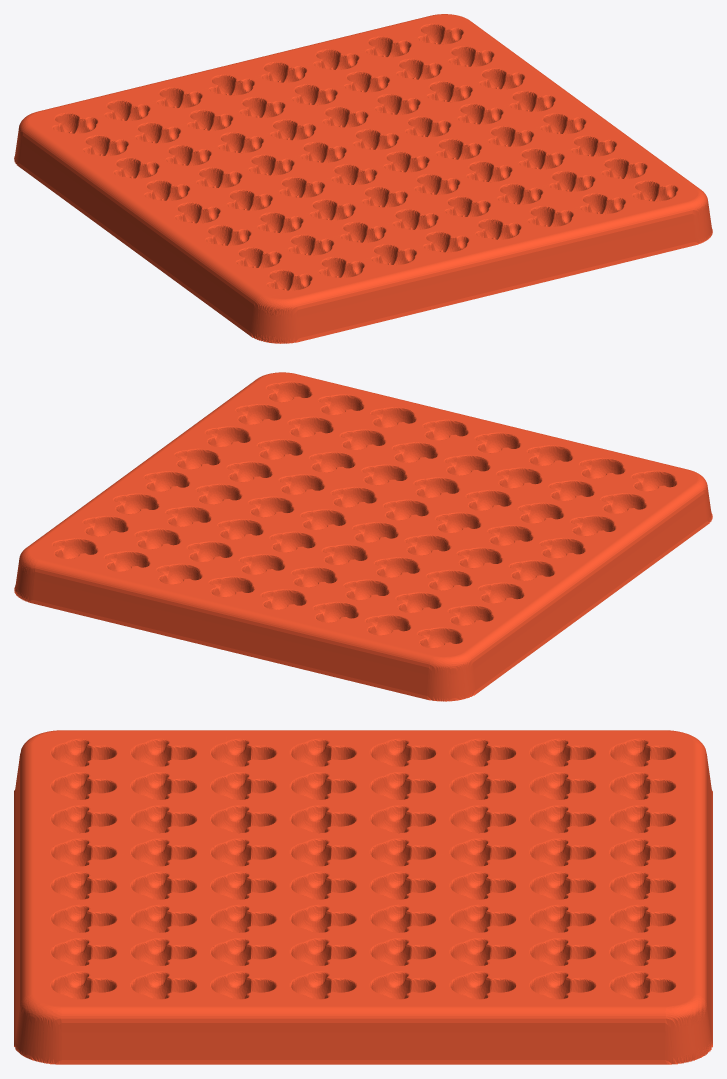
Rendered from mold.glb.
The picture shows the model from 3 angles, top to bottom: view 1: azimuth 30°, elevation 25°; view 2: azimuth 150°, elevation 25°; view 3: azimuth 270°, elevation 25°; orthographic projection. The views are drawn at different scales.
Visible parts, largest first — view 1: geometry_0; view 2: geometry_0; view 3: geometry_0.
Boxes of the visible parts, x1,y1,x2,y2 form: geometry_0: [14, 14, 712, 343]; geometry_0: [14, 372, 712, 701]; geometry_0: [14, 730, 712, 1064].
Size of the model in its own units: 0.1283 by 0.0103 by 0.1301.
